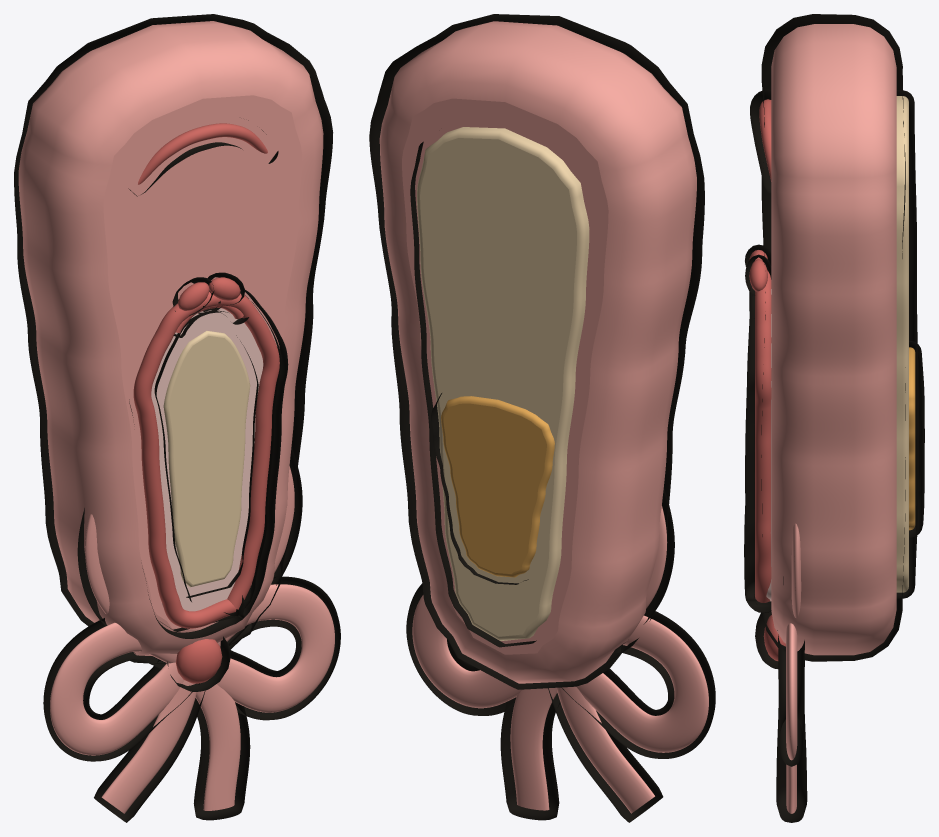
Rendered from slipper.glb.
3 renders of one model, left to right at view 1: azimuth 30°, elevation 25°; view 2: azimuth 150°, elevation 25°; view 3: azimuth 270°, elevation 25°, orthographic. The views are drawn at different scales.
Visible parts, largest first — view 1: Slipper, Slipper_outline; view 2: Slipper, Slipper_outline; view 3: Slipper, Slipper_outline.
Boxes of the visible parts, box(x1,y1,x2,y2) form: Slipper: box(18, 21, 334, 813); Slipper_outline: box(14, 14, 340, 822); Slipper: box(379, 21, 708, 813); Slipper_outline: box(369, 14, 715, 822); Slipper: box(749, 24, 915, 813); Slipper_outline: box(744, 14, 924, 822).
Bounding box in the file's own units: 1.34 × 3.37 × 0.7213.
